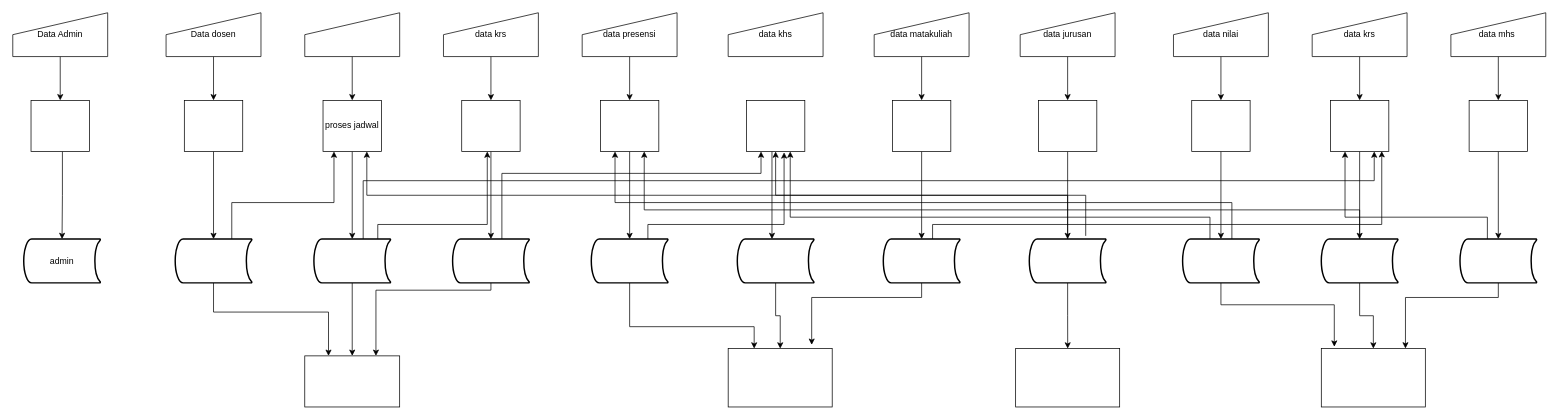
Some shapes in this 1559 by 420 pixel diagram are drawn without their labels. The shapes that lost their labels are listed below. From the top down, each one's centre as x and y in pixels, then its label:
At (352,34): "data jadwal".
At (59,125): "Proses admin".
At (213,125): "proses dosen".
At (490,125): "proses krs".
At (629,125): "proses presensi".
At (213,260): "dosen".
